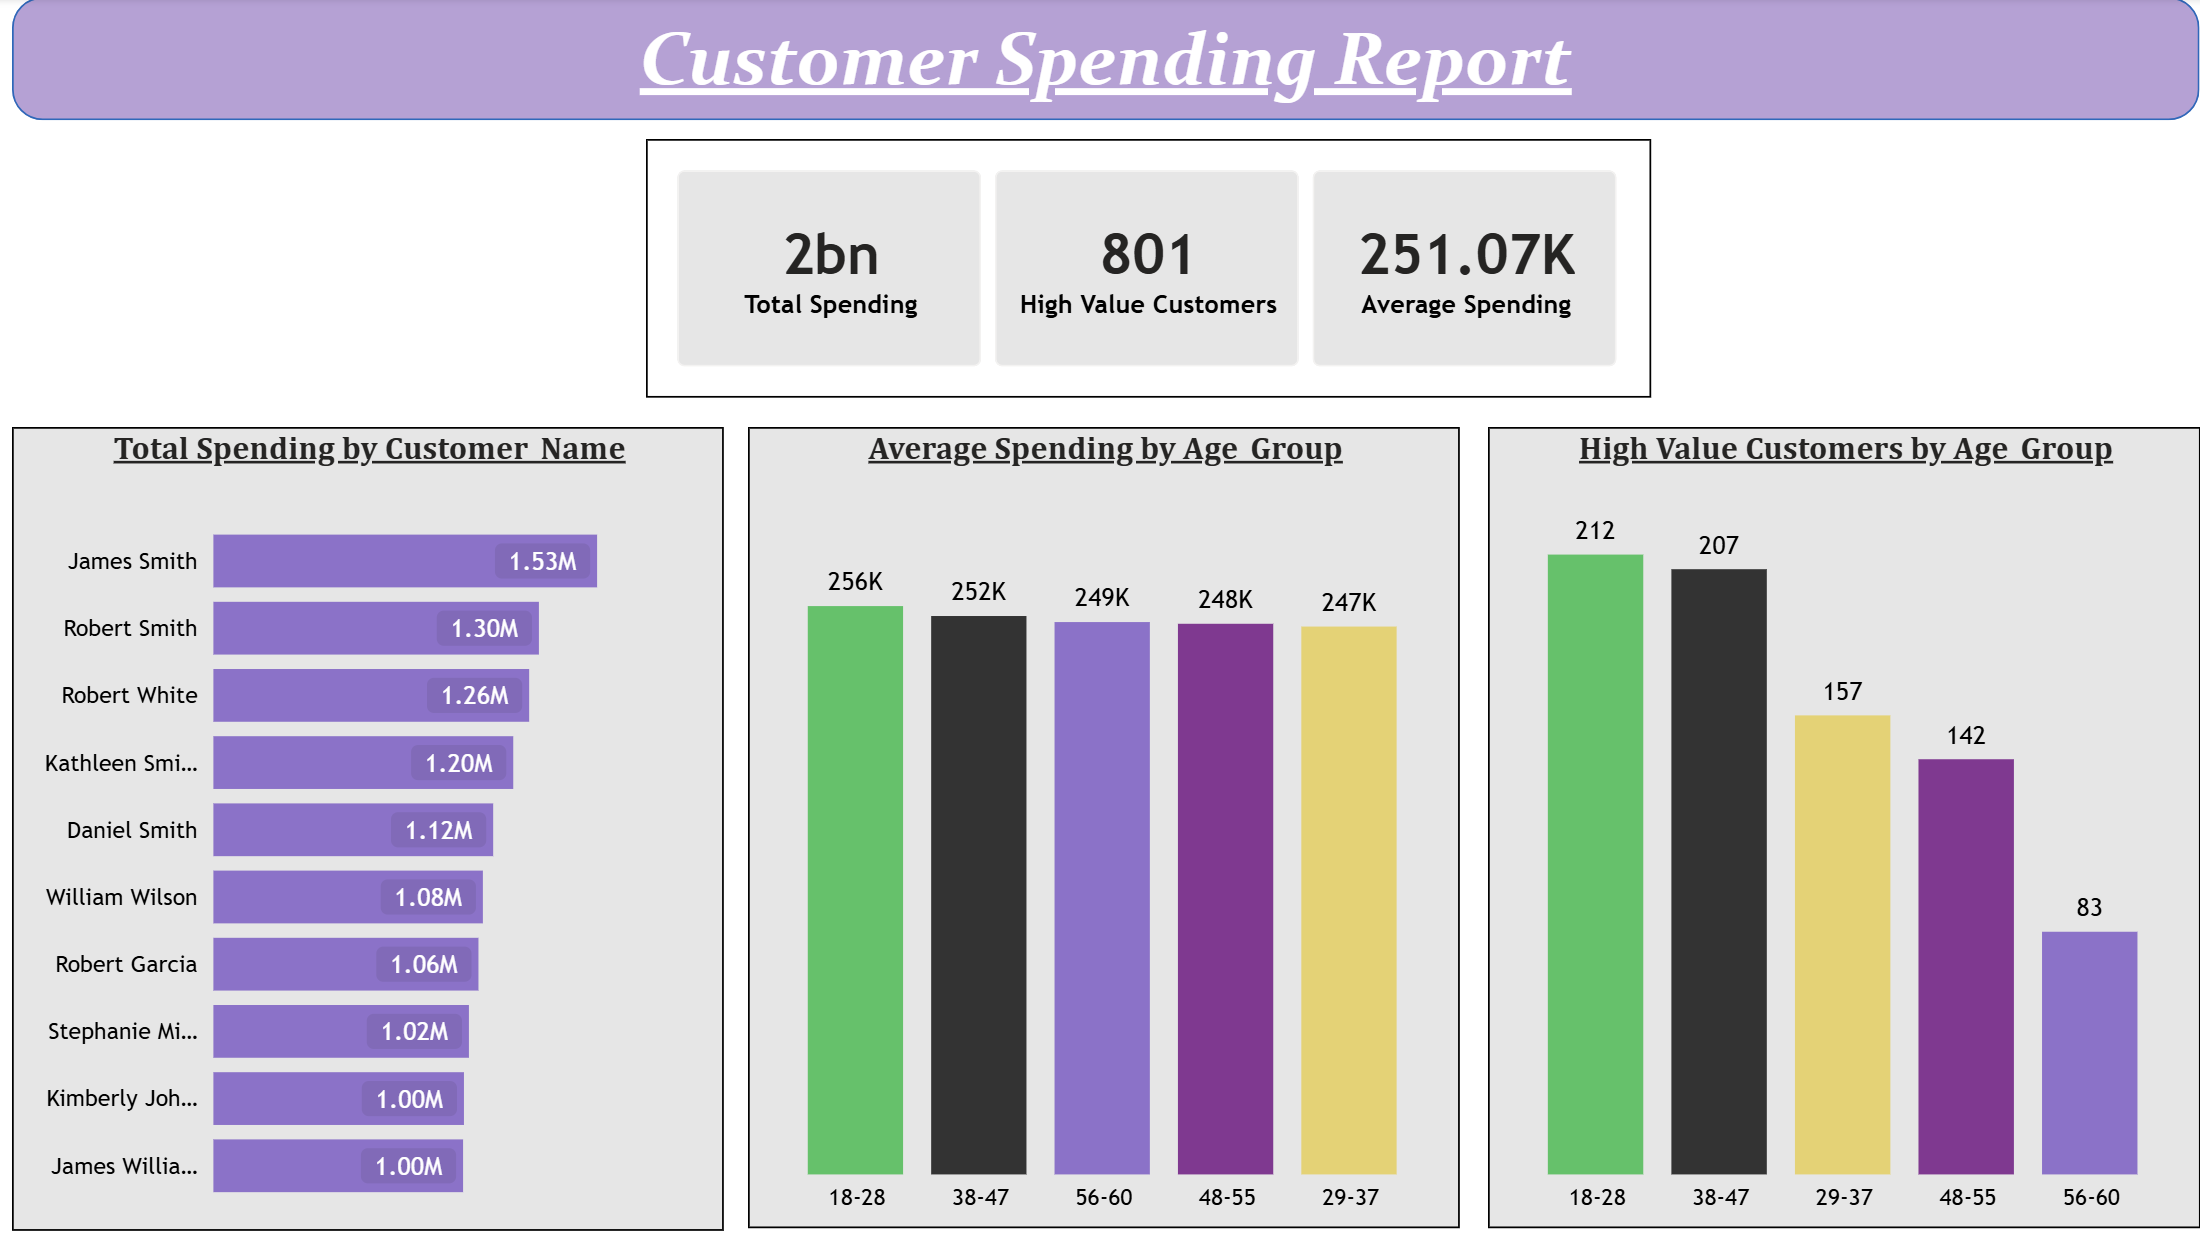

The page's visual inventory and layout, read from the dashboard file:
{"tool":"powerbi","page":{"name":"L1 | T3","canvas":[1280,720],"ordinal":1},"visuals":[{"type":"shape","box":[10.2,0,1260,71],"z":0},{"type":"cardVisual","fields":{"Data":["Measures Table 2.Total Spending","Measures Table 2.High Value Customers","Measures Table 2.Average Spending"]},"box":[376.1,81.6,578.8,149.2],"z":1000},{"type":"clusteredColumnChart","fields":{"Category":["Customer.Age_Group"],"Y":["Measures Table 2.Average Spending"]},"box":[434.7,247.3,410,461.5],"z":2000},{"type":"barChart","fields":{"Category":["Customer.Customer_Name"],"Y":["Measures Table 2.Total Spending"]},"box":[10.2,247.3,410,462.8],"z":3000},{"type":"clusteredColumnChart","fields":{"Category":["Customer.Age_Group"],"Y":["Measures Table 2.High Value Customers"]},"box":[860.6,247.3,410.5,461.5],"z":4000}]}

Visuals, with their boxes in screenshot pixels (x1, y1, x2, y2), scaled from the page's 1280x720 canvas onto the 2200x1234 screenshot:
shape: 18/0/2183/122
cardVisual - Measures Table 2.Total Spending x Measures Table 2.High Value Customers: 646/140/1641/396
clusteredColumnChart - Customer.Age_Group x Measures Table 2.Average Spending: 747/424/1452/1215
barChart - Customer.Customer_Name x Measures Table 2.Total Spending: 18/424/722/1217
clusteredColumnChart - Customer.Age_Group x Measures Table 2.High Value Customers: 1479/424/2185/1215
